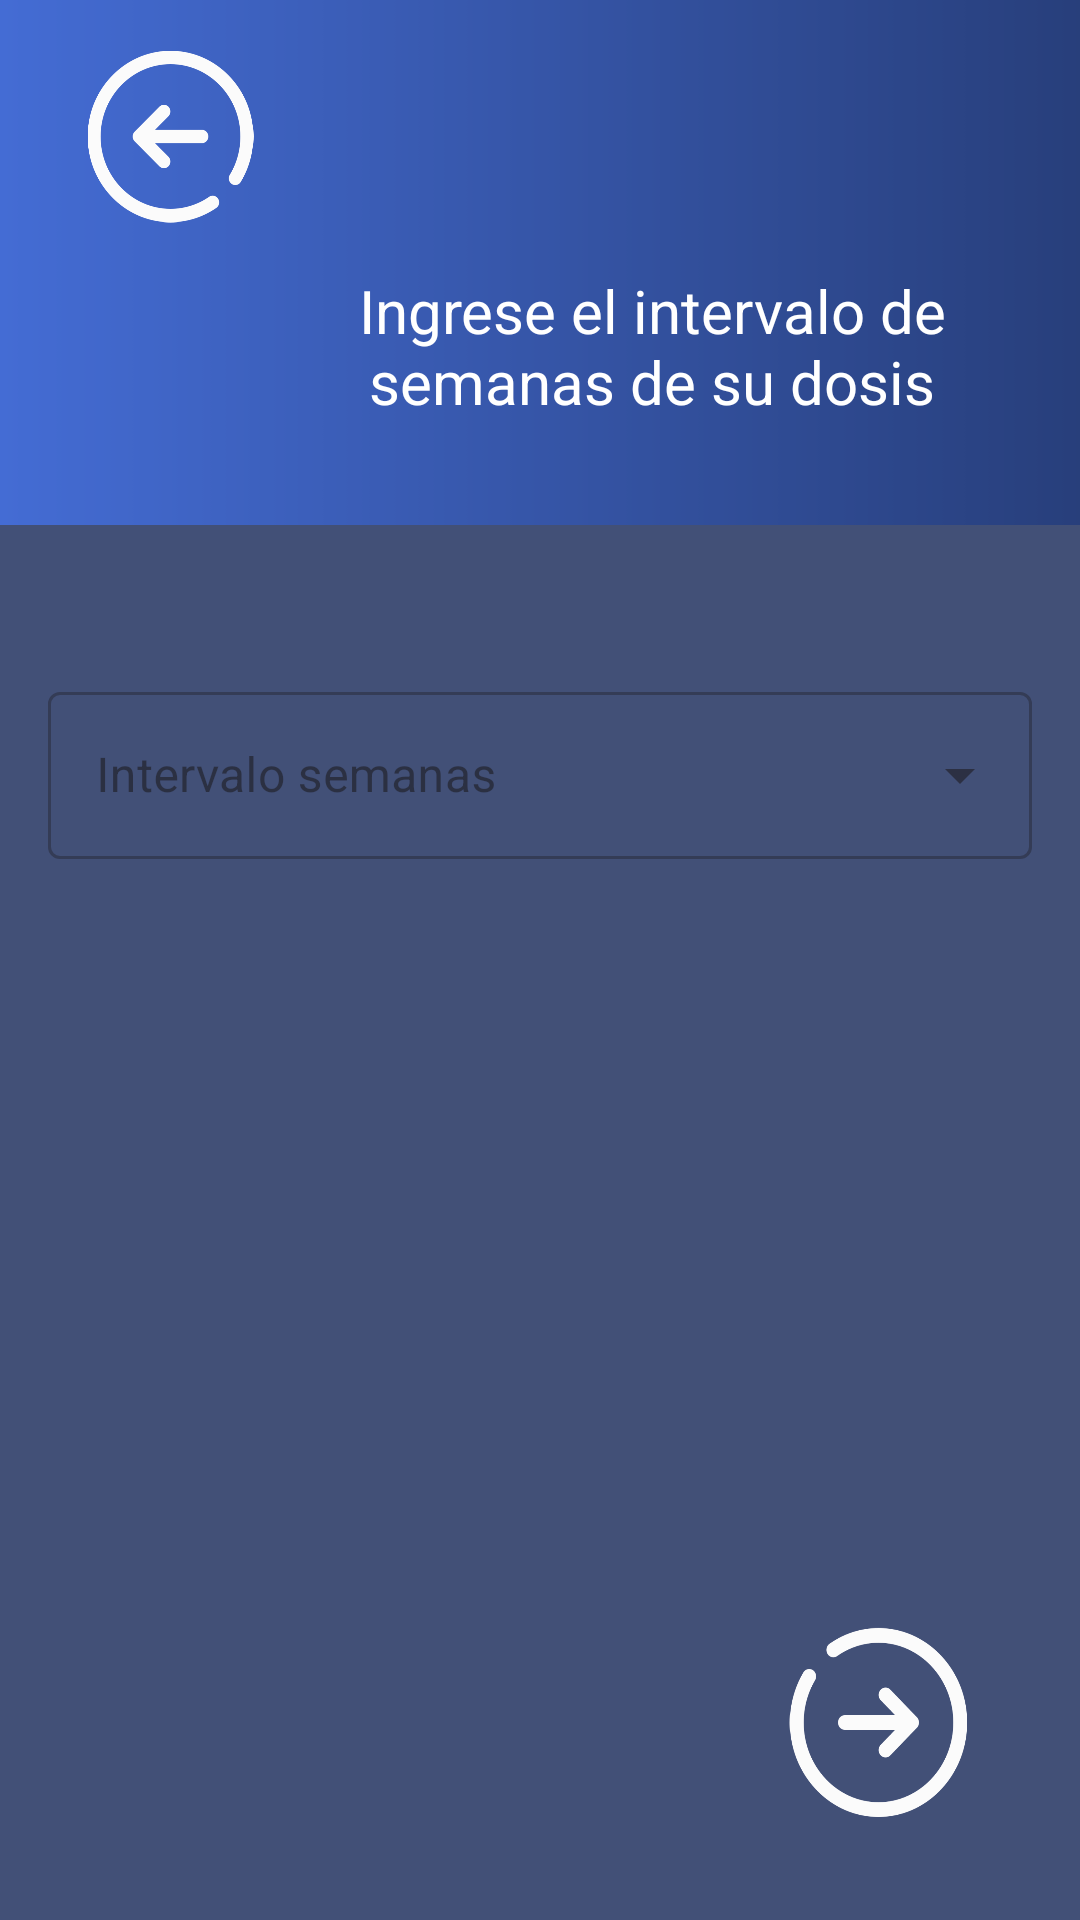

Icons on this 1080w x 1920h Android screen, each with the point to tap as [x,y]:
siguiente: [878,1722]
